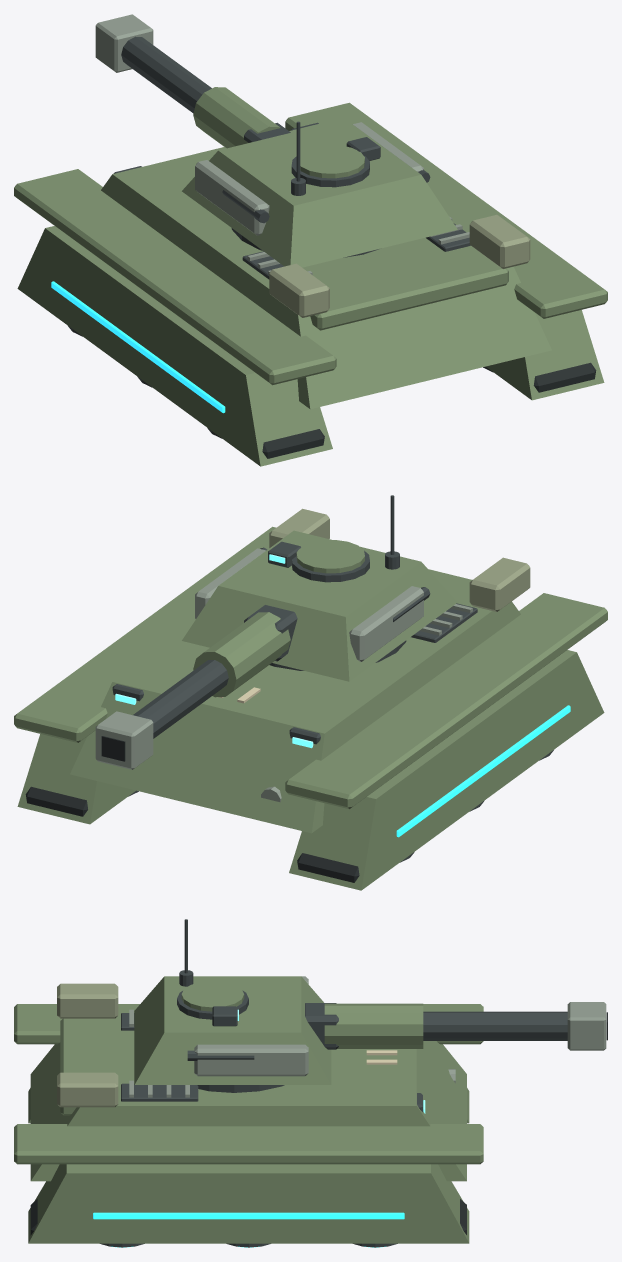
File: tank_hover_premium.glb
The picture shows the model from 3 angles, top to bottom: view 1: azimuth 30°, elevation 25°; view 2: azimuth 150°, elevation 25°; view 3: azimuth 270°, elevation 25°; orthographic projection. The views are drawn at different scales.
Visible parts, largest first — view 1: tank_hover_mk2_TankPaint.007, tank_hover_mk2_TankPaint.008, tank_hover_mk2_RunningGear.008, tank_hover_mk2_ArmorEdges.008, tank_hover_mk2_Canvas.001, tank_hover_mk2_TankTracks.007, tank_hover_mk2_EnergyGlow.003, tank_hover_mk2_RunningGear.007; view 2: tank_hover_mk2_TankPaint.007, tank_hover_mk2_TankPaint.008, tank_hover_mk2_RunningGear.008, tank_hover_mk2_ArmorEdges.008, tank_hover_mk2_Canvas.001, tank_hover_mk2_TankTracks.007, tank_hover_mk2_RunningGear.007, tank_hover_mk2_EnergyGlow.003, tank_hover_mk2_ArmorEdges.007; view 3: tank_hover_mk2_TankPaint.007, tank_hover_mk2_TankPaint.008, tank_hover_mk2_RunningGear.008, tank_hover_mk2_ArmorEdges.008, tank_hover_mk2_Canvas.001, tank_hover_mk2_EnergyGlow.003, tank_hover_mk2_RunningGear.007, tank_hover_mk2_ArmorEdges.007.
Part boxes in pixels (left/top/right/bottom): tank_hover_mk2_TankPaint.007: left=14, top=102, right=607, bottom=466; tank_hover_mk2_TankPaint.008: left=182, top=87, right=457, bottom=267; tank_hover_mk2_RunningGear.008: left=121, top=36, right=430, bottom=257; tank_hover_mk2_ArmorEdges.008: left=95, top=14, right=423, bottom=235; tank_hover_mk2_Canvas.001: left=269, top=214, right=530, bottom=317; tank_hover_mk2_TankTracks.007: left=262, top=362, right=596, bottom=458; tank_hover_mk2_EnergyGlow.003: left=51, top=281, right=225, bottom=413; tank_hover_mk2_RunningGear.007: left=68, top=122, right=493, bottom=438; tank_hover_mk2_TankPaint.007: left=14, top=526, right=607, bottom=890; tank_hover_mk2_TankPaint.008: left=182, top=530, right=457, bottom=697; tank_hover_mk2_RunningGear.008: left=133, top=495, right=430, bottom=738; tank_hover_mk2_ArmorEdges.008: left=95, top=548, right=423, bottom=769; tank_hover_mk2_Canvas.001: left=269, top=508, right=530, bottom=611; tank_hover_mk2_TankTracks.007: left=25, top=786, right=359, bottom=882; tank_hover_mk2_RunningGear.007: left=112, top=603, right=553, bottom=862; tank_hover_mk2_EnergyGlow.003: left=396, top=705, right=570, bottom=837; tank_hover_mk2_ArmorEdges.007: left=261, top=604, right=472, bottom=802; tank_hover_mk2_TankPaint.007: left=14, top=1004, right=483, bottom=1243; tank_hover_mk2_TankPaint.008: left=134, top=976, right=423, bottom=1084; tank_hover_mk2_RunningGear.008: left=177, top=919, right=567, bottom=1092; tank_hover_mk2_ArmorEdges.008: left=194, top=976, right=606, bottom=1076; tank_hover_mk2_Canvas.001: left=57, top=983, right=118, bottom=1107; tank_hover_mk2_EnergyGlow.003: left=93, top=1212, right=404, bottom=1247; tank_hover_mk2_RunningGear.007: left=100, top=1013, right=422, bottom=1247; tank_hover_mk2_ArmorEdges.007: left=129, top=1009, right=455, bottom=1097.
Bounding box in the file's own units: 2.74 × 1.98 × 4.46.
